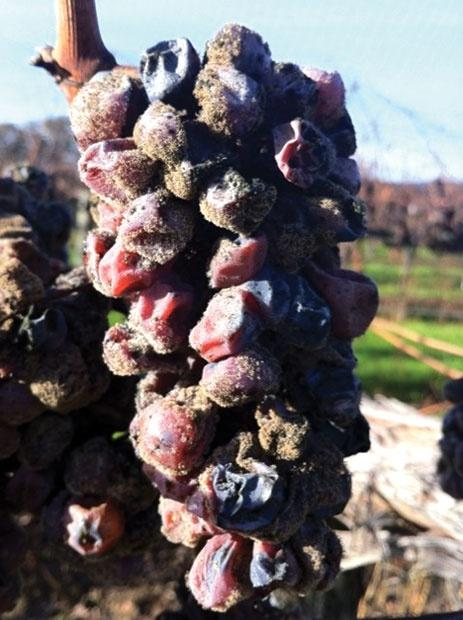Grape Rotten: (63, 21, 379, 614)
